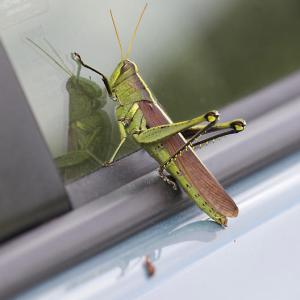locust: (82, 25, 246, 220)
